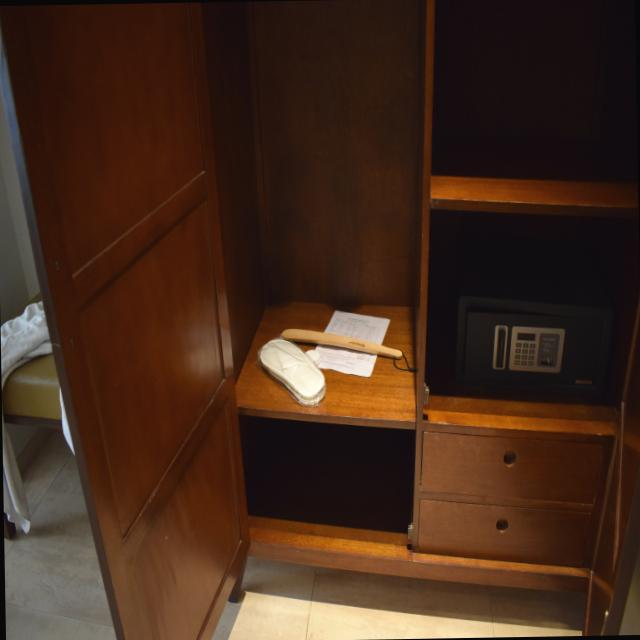mess: (245, 264, 402, 442)
